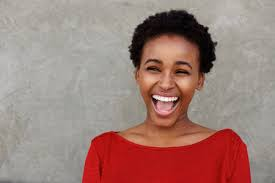person: (129, 9, 215, 129)
